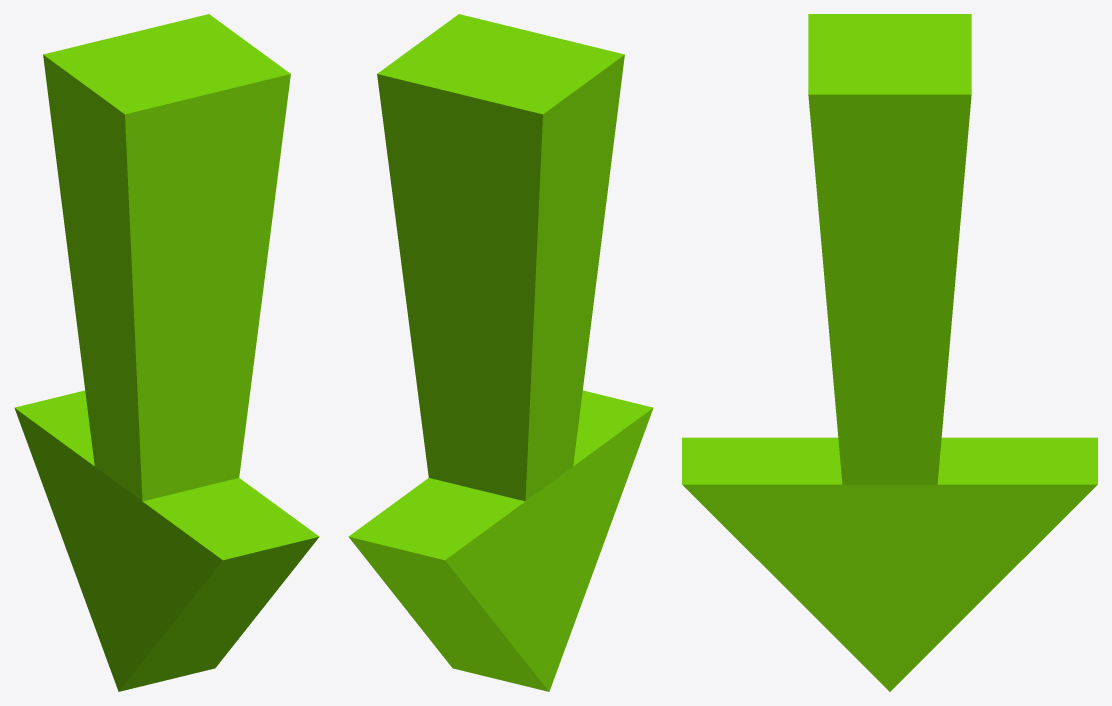
The model's file is flecha.fbx.
3 views of the same model, side by side, from view 1: azimuth 30°, elevation 25°; view 2: azimuth 150°, elevation 25°; view 3: azimuth 270°, elevation 25° (orthographic).
Visible parts, largest first — view 1: Plane; view 2: Plane; view 3: Plane.
Boxes of the visible parts, x1,y1,x2,y2 form: Plane: (14,14,319,691); Plane: (348,14,653,691); Plane: (682,14,1097,691).
Bounding box in the file's own units: 91.93 × 326 × 200.
